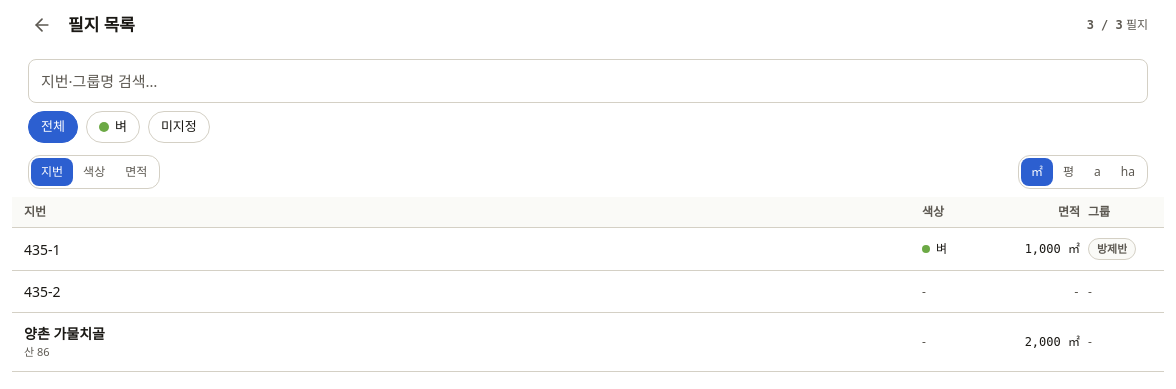
Test: AC-7: 행 표기 (카운트·색 뱃지·환산 면적·그룹명·결측 -) + 단위 즉시 토글 › 단위를 평으로 토글하면 면적 표기가 즉시 환산된다
Expected: the text "1,000 ㎡" is shown, [1025, 242, 1080, 256]
Click the button "평". click: [1069, 172]
box: [1053, 158, 1084, 186]
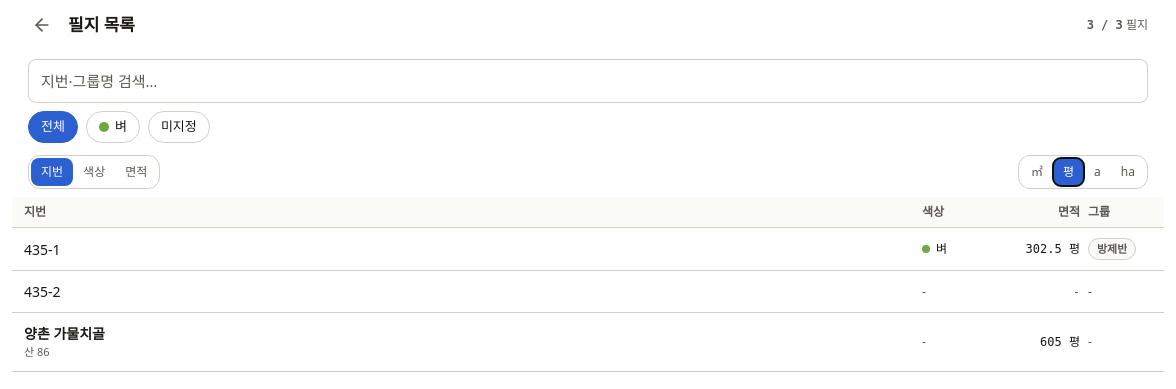
Expected: the text "302.5 평" is shown, [1026, 242, 1080, 256]
Expected: the text "605 평" is shown, [1040, 335, 1080, 349]
Expected: the button "1,000 ㎡" is gone
